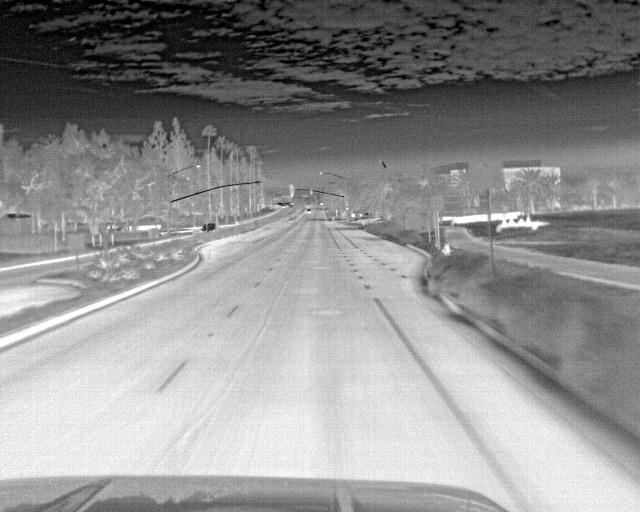car: (200, 222, 217, 234)
